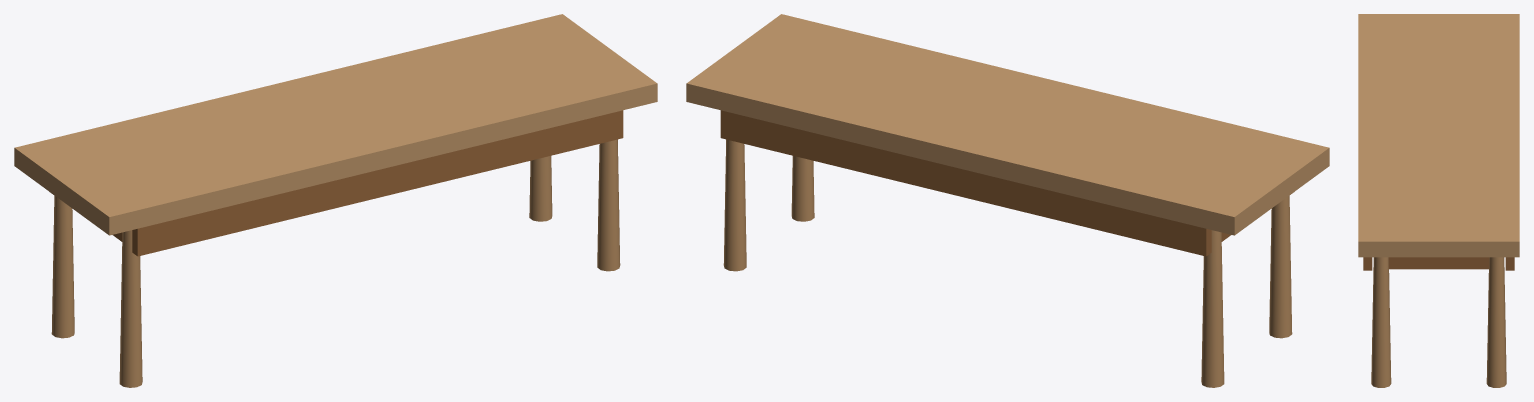
File: bench-lite.glb
3 renders of one model, left to right at view 1: azimuth 30°, elevation 25°; view 2: azimuth 150°, elevation 25°; view 3: azimuth 270°, elevation 25°, orthographic. The views are drawn at different scales.
Parts seen in each view (by area): view 1: material-0-top, material-2-trim, material-1-leg; view 2: material-0-top, material-2-trim, material-1-leg; view 3: material-0-top, material-1-leg, material-2-trim.
Boxes of the visible parts, x1,y1,x2,y2 form: material-0-top: (14, 14, 657, 235); material-2-trim: (53, 110, 623, 256); material-1-leg: (51, 139, 620, 387); material-0-top: (686, 14, 1329, 235); material-2-trim: (720, 110, 1290, 256); material-1-leg: (723, 139, 1292, 387); material-0-top: (1358, 14, 1519, 257); material-1-leg: (1371, 257, 1506, 387); material-2-trim: (1363, 257, 1514, 270).
Bounding box in the file's own units: 1.4 × 0.45 × 0.42.
